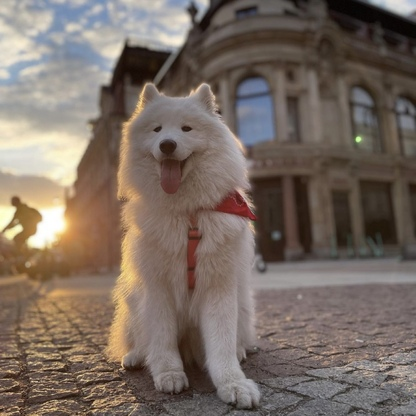samoyed: (100, 77, 271, 416)
